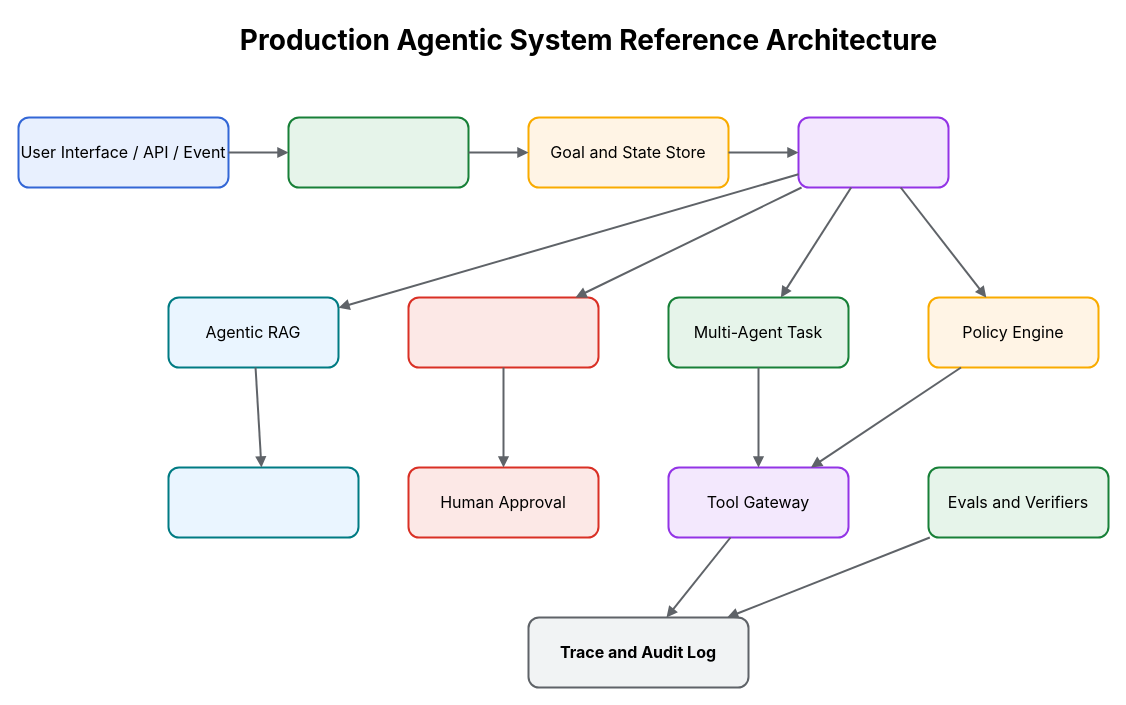
Image size: 1126x705. Some labels were removed from this diagram. Each missing label, with the centre of its shape:
Durable Workflow: the point at 503,332
Indexes, APIs, Memory: the point at 263,502
Intake and Auth: the point at 378,152
Router: the point at 873,152
